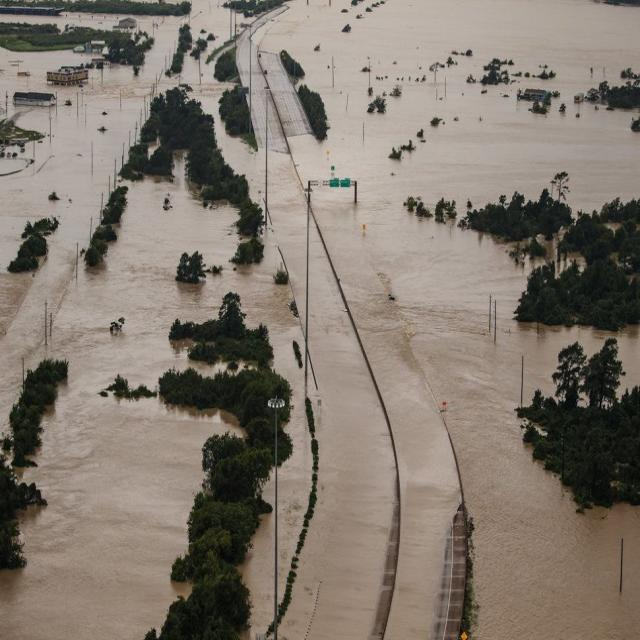flooded_areas: (5, 5, 474, 630)
